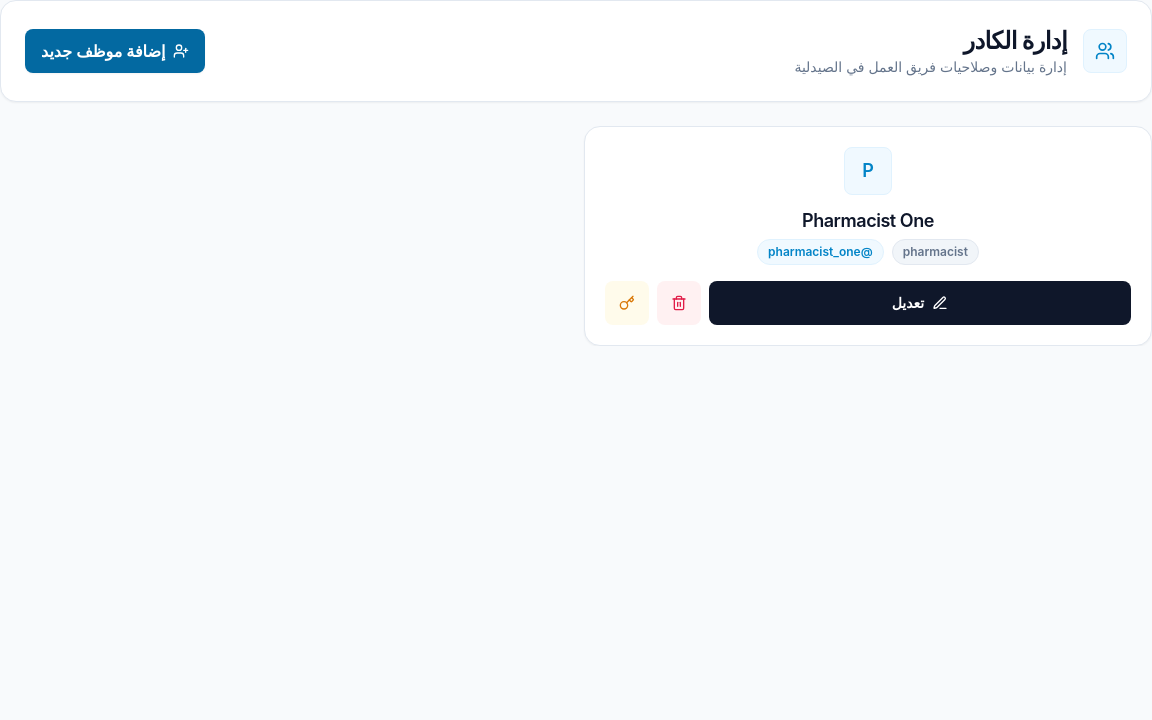
Test: coverage gap: staff-management direct controls › recovers the add-user modal from a thrown action error
Click the button "إضافة موظف جديد".
click(115, 51)  # box [25,29,206,73]
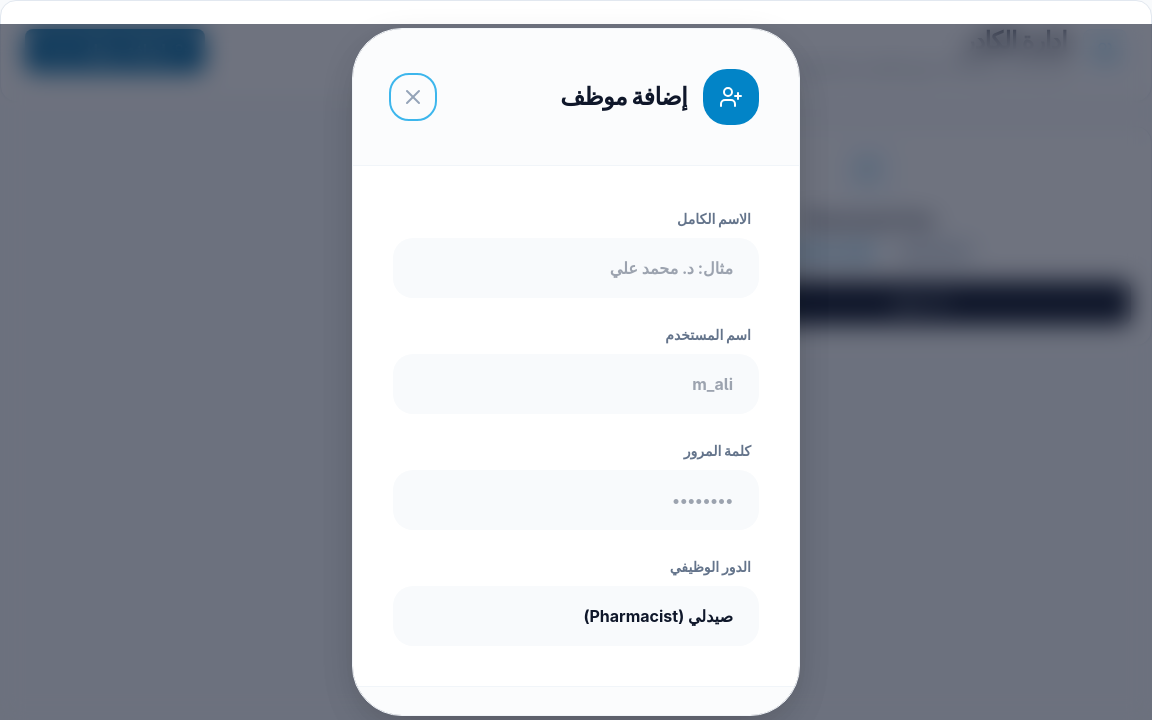
Type "Thrown User" into the field with placeholder "مثال: د. محمد علي".
click(576, 268); type("Thrown User")  # box [393,238,759,298]
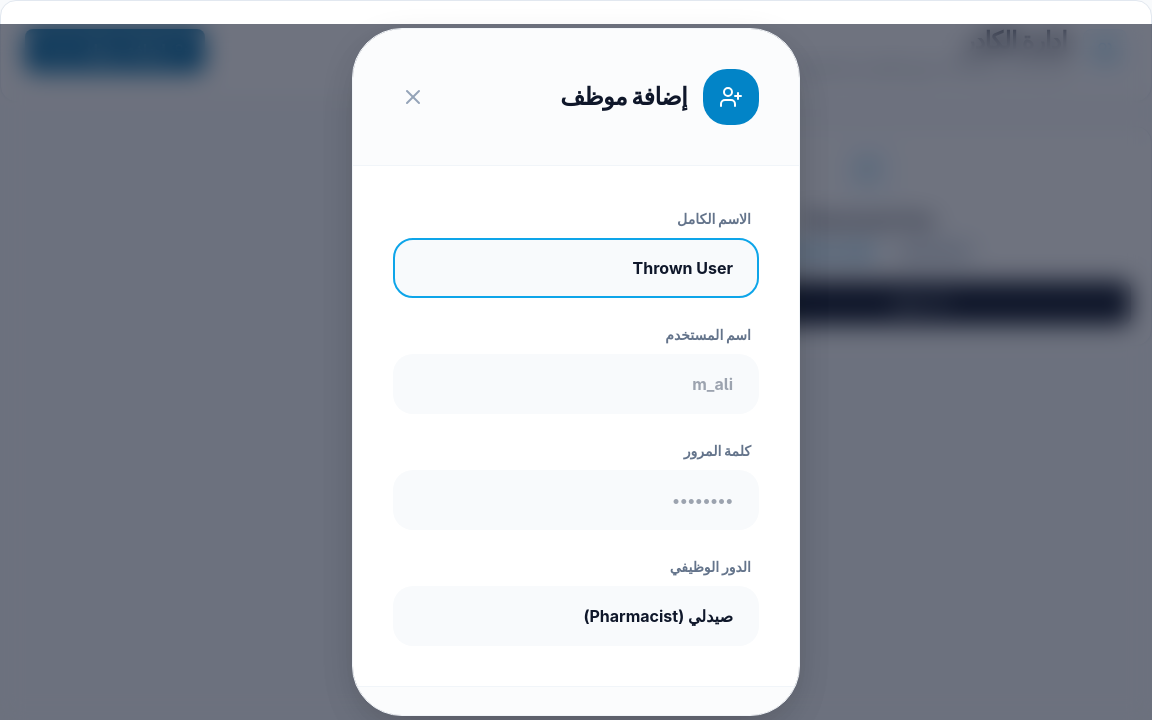
Type "thrown" into the field with placeholder "m_ali".
click(576, 384); type("thrown")  # box [393,354,759,414]
(page scrolled)
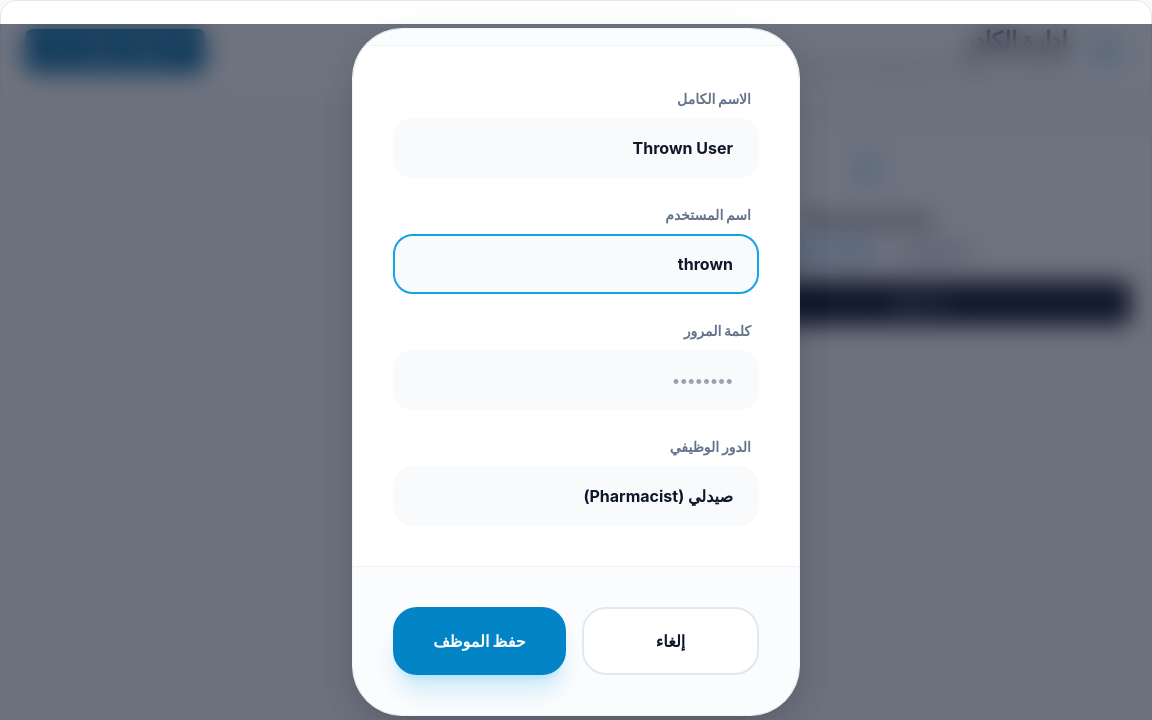
Click the button "حفظ الموظف".
click(480, 641)  # box [393,607,566,675]
(page scrolled)
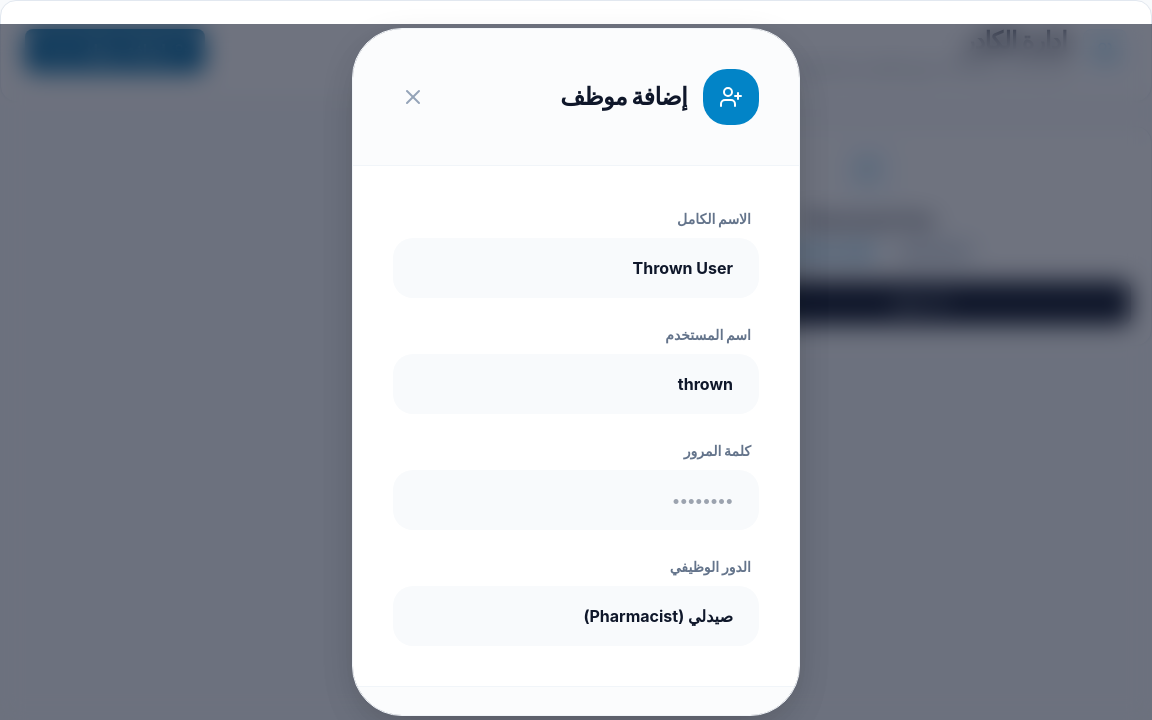
Now the heading "إضافة موظف" is shown, box [560,81,687,113]
